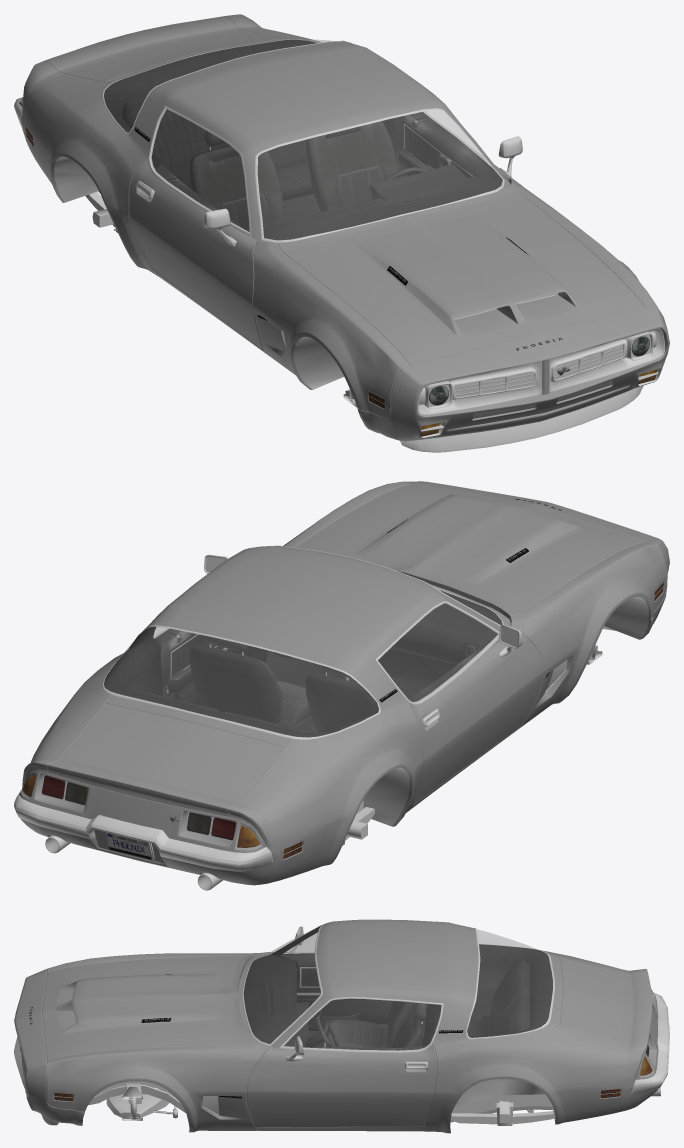
The model's file is Phoenix445.fbx.
3 views of the same model, one above another, from view 1: azimuth 30°, elevation 25°; view 2: azimuth 150°, elevation 25°; view 3: azimuth 270°, elevation 25° (orthographic). The views are drawn at different scales.
Visible parts, largest first — view 1: Body; view 2: Body; view 3: Body, Steeringwheel.
Part boxes in pixels (x1,y1,x2,y2): Body: (14, 14, 669, 452); Body: (14, 481, 669, 890); Body: (14, 919, 669, 1133); Steeringwheel: (316, 1015, 339, 1047).
Size of the model in its own units: 209 by 120 by 489.
